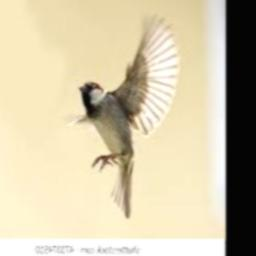Sparrow: (69, 11, 179, 218)
